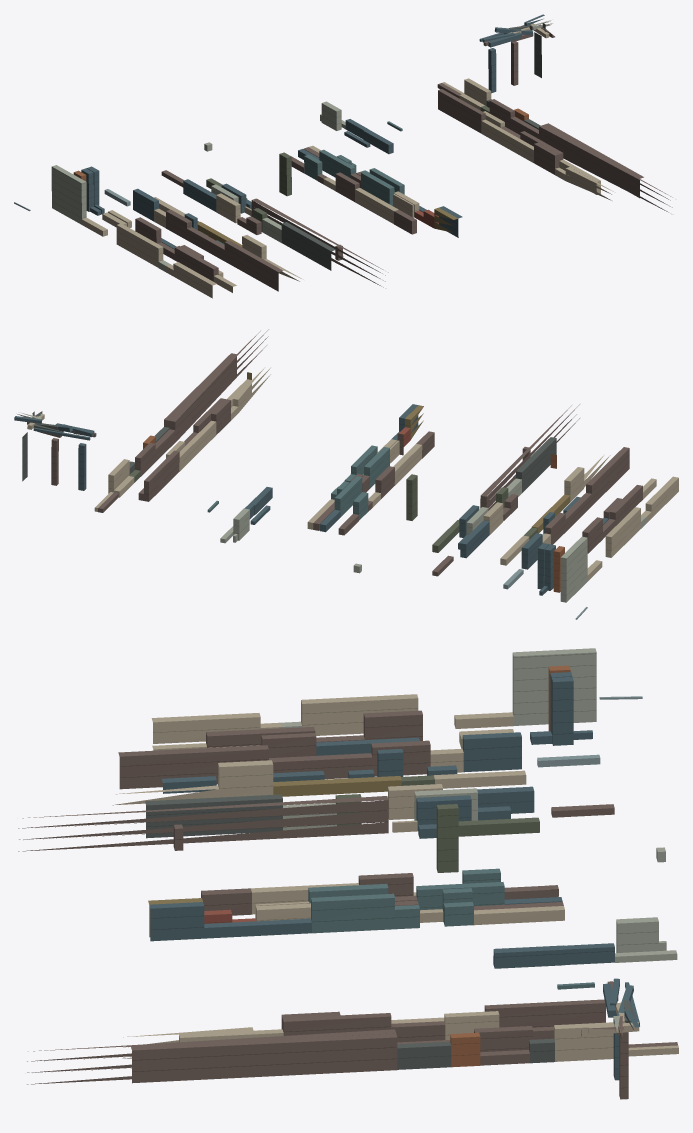
Rendered from terminal-29---119_-20.glb.
3 views of the same model, one above another, from view 1: azimuth 30°, elevation 25°; view 2: azimuth 150°, elevation 25°; view 3: azimuth 270°, elevation 25° (orthographic). The views are drawn at different scales.
Visible parts, largest first — view 1: measured-industrial; view 2: measured-industrial; view 3: measured-industrial.
Boxes of the visible parts, bbox=[...] form: measured-industrial: bbox=[14, 14, 672, 298]; measured-industrial: bbox=[14, 329, 678, 619]; measured-industrial: bbox=[18, 648, 678, 1099].
Bounding box in the file's own units: 246 × 27.04 × 159.
